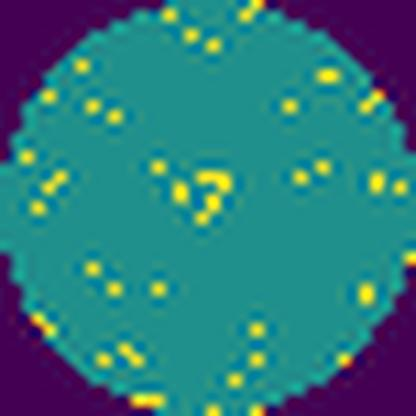Center: (172, 166, 234, 228)
